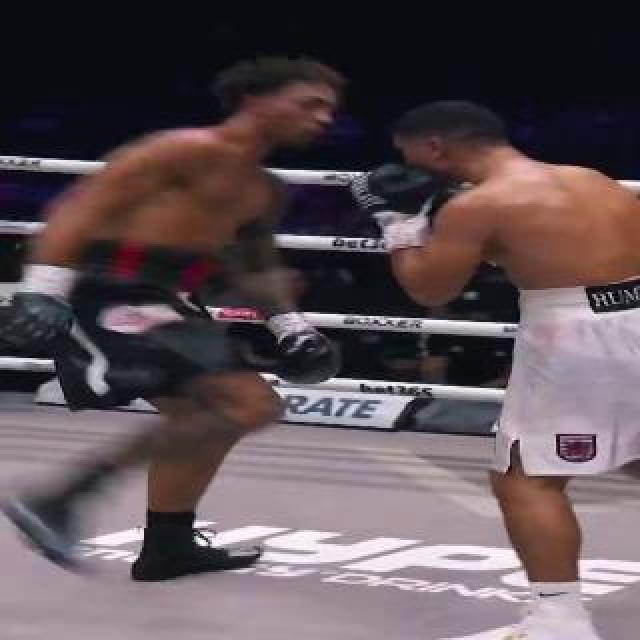fight: (44, 26, 640, 640)
